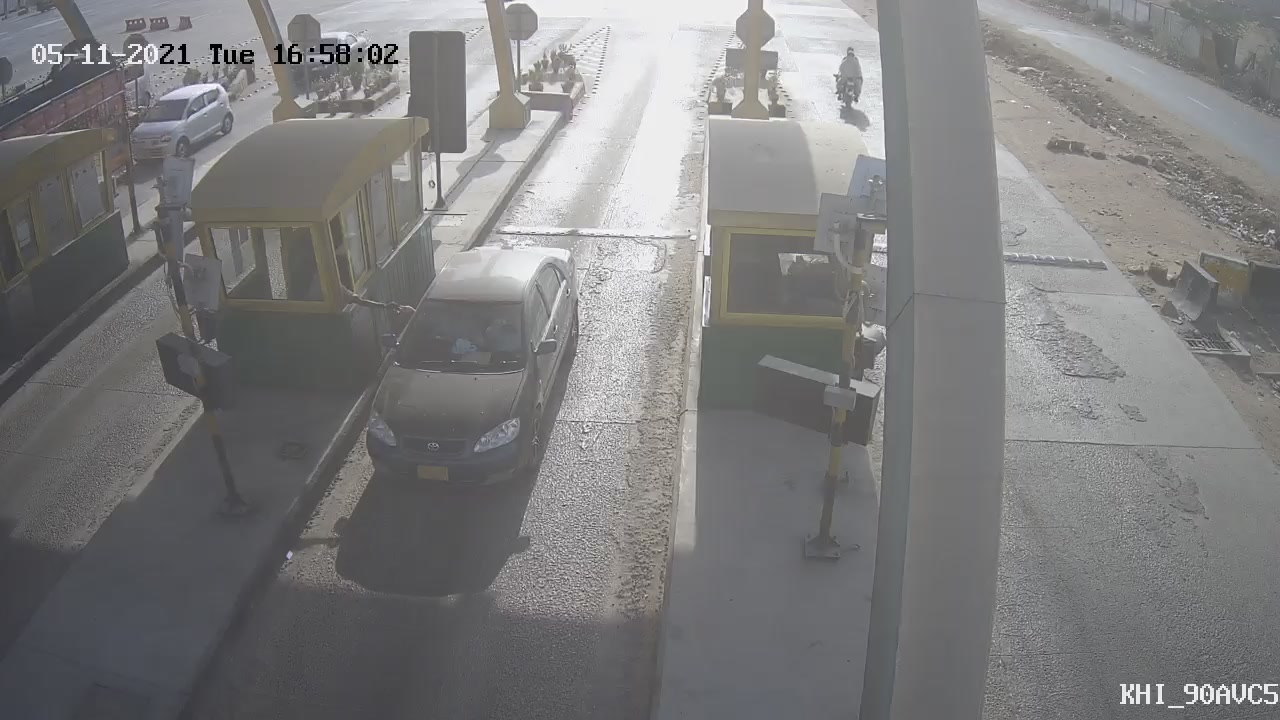F1: (344, 226, 596, 508)
